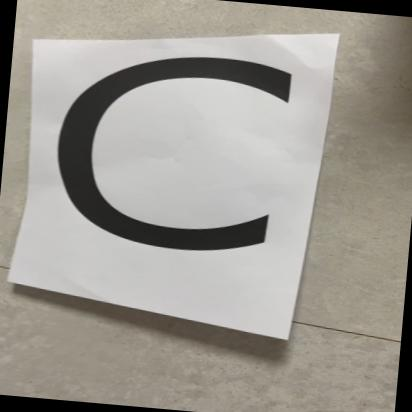seat: (27, 25, 325, 334)
